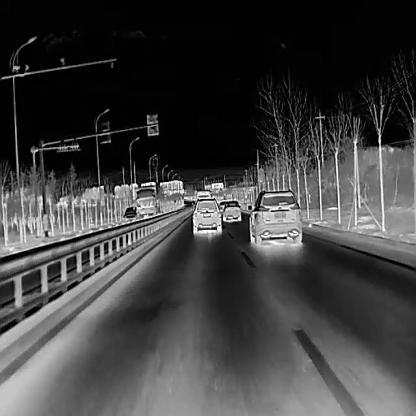car: (247, 189, 302, 246), (191, 196, 222, 235), (135, 183, 156, 219), (221, 198, 242, 221), (122, 205, 137, 225)
